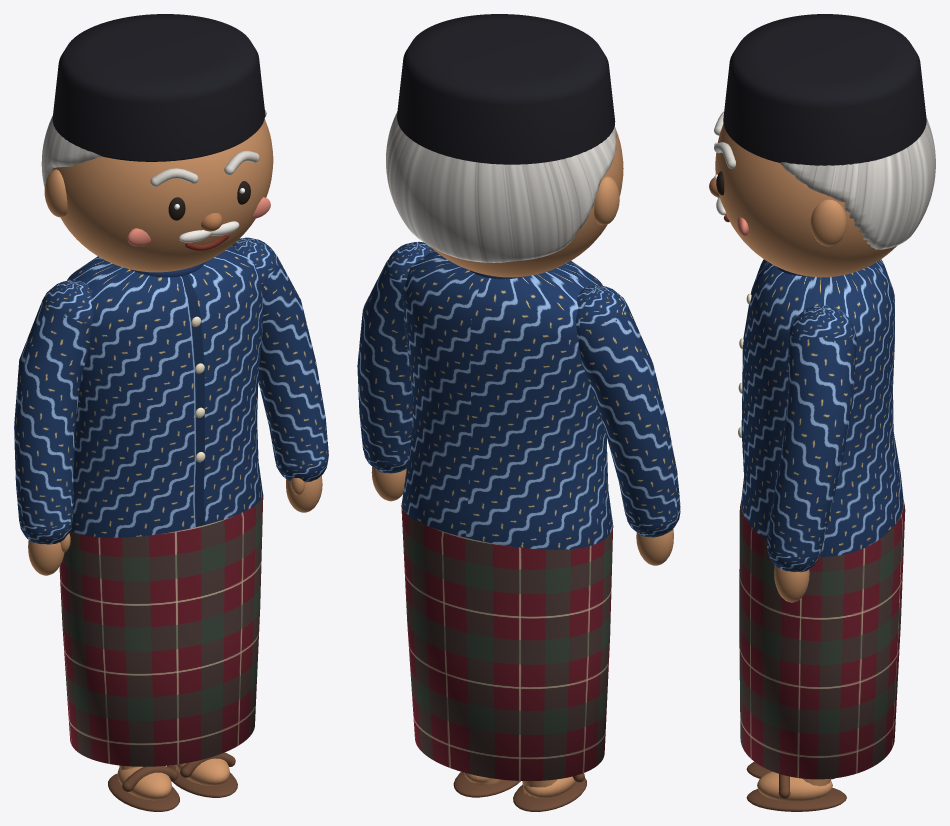
File: elder_male.glb
The picture shows the model from 3 angles, left to right: view 1: azimuth 30°, elevation 25°; view 2: azimuth 150°, elevation 25°; view 3: azimuth 270°, elevation 25°; orthographic projection. The views are drawn at different scales.
Parts seen in each view (by area): view 1: shirt, sarung, peci, skin, sandal, hair, brow, blush, hair_plain; view 2: shirt, sarung, peci, hair, skin, sandal; view 3: shirt, sarung, peci, skin, hair, sandal, brow.
Part boxes in pixels (x1,y1,x2,y2): shirt: [14, 237, 328, 544]; sarung: [59, 494, 263, 766]; peci: [52, 14, 265, 161]; skin: [28, 119, 322, 800]; sandal: [108, 752, 237, 811]; hair: [41, 109, 266, 187]; brow: [150, 150, 259, 186]; blush: [127, 197, 270, 246]; hair_plain: [179, 221, 239, 242]; shirt: [357, 241, 680, 549]; sarung: [401, 505, 613, 781]; peci: [397, 14, 615, 164]; hair: [386, 112, 616, 262]; skin: [371, 127, 673, 798]; sandal: [453, 772, 586, 811]; shirt: [741, 259, 903, 572]; sarung: [739, 499, 905, 779]; peci: [723, 14, 926, 165]; skin: [715, 123, 896, 801]; hair: [780, 117, 935, 249]; sandal: [746, 761, 846, 811]; brow: [714, 111, 735, 168].
Bounding box in the file's own units: 0.5756 × 1.33 × 0.3704.
15 materials, 3 textured.
